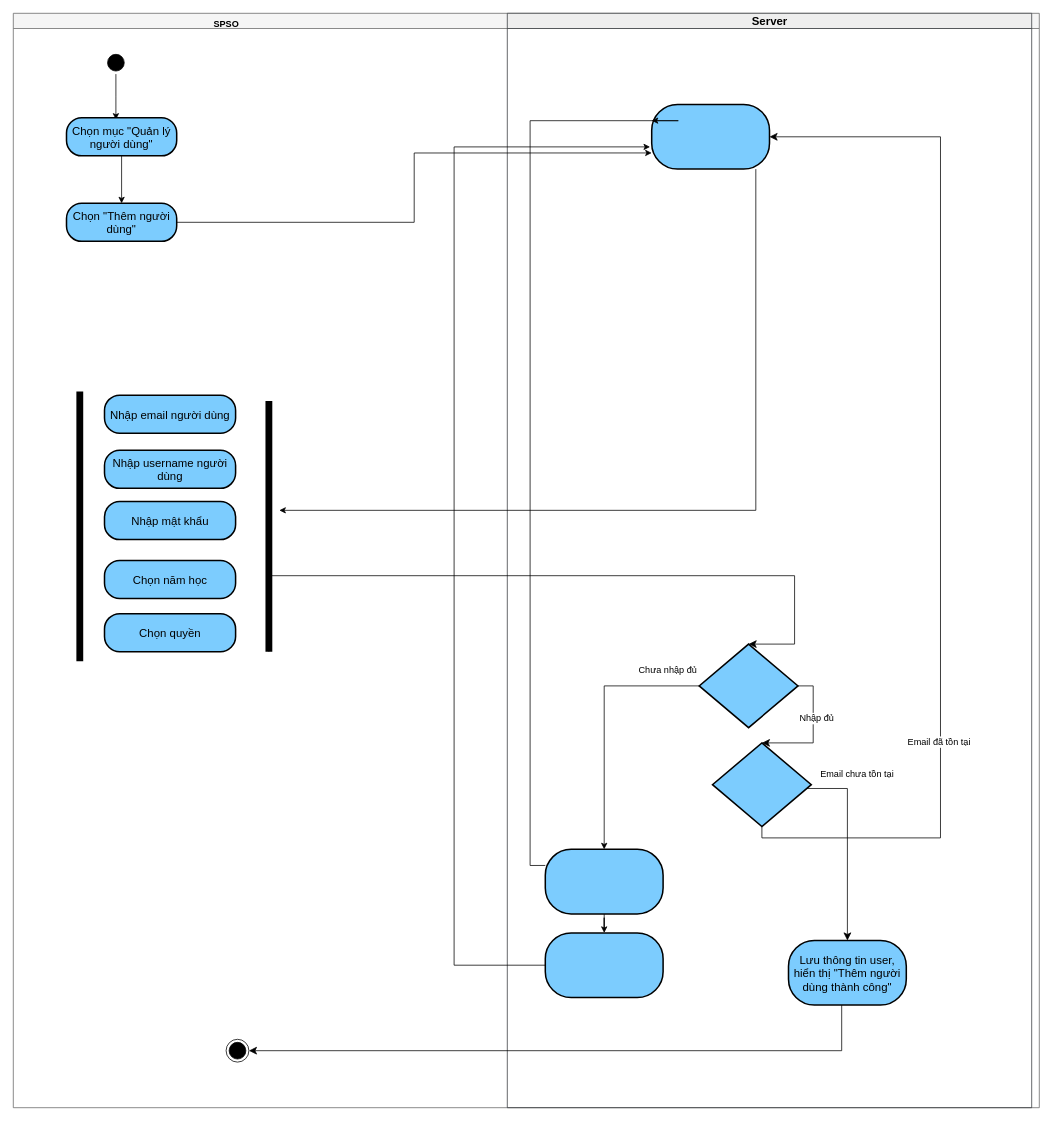
This 1053x1121 diagram has some shape labels left out. The centre of each missing label's shape, as x and y in pixels:
Emal tồn tại?: (761,784)
Hiển thị "Lỗi: Email already exists": (603,965)
Hiển thị "Vui lòng điền đầy đủ thông tin": (603,881)
Hiển thị ra giao diện "Thêm người dùng": (710,136)
Nhập đủ thông tin?: (748,685)
